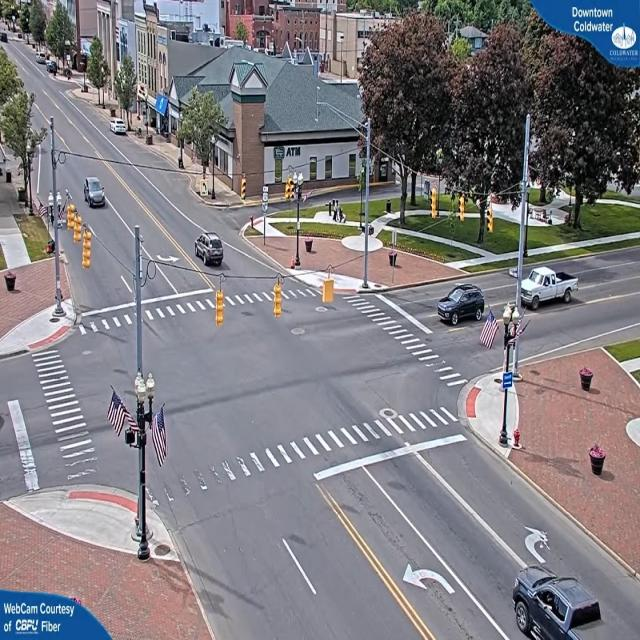car: (512, 571, 605, 640), (517, 264, 577, 309), (438, 283, 487, 326), (193, 232, 224, 264), (83, 179, 108, 208), (111, 120, 129, 136)
